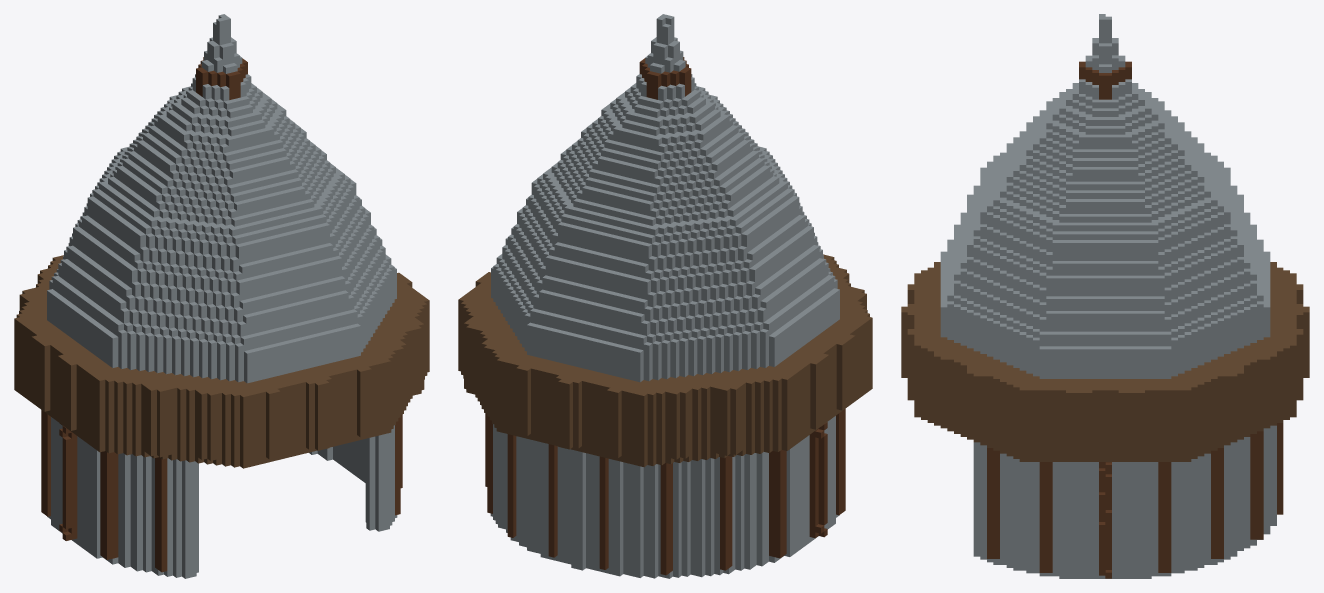
Rendered from helmet_conical.glb.
3 views of the same model, side by side, from view 1: azimuth 30°, elevation 25°; view 2: azimuth 150°, elevation 25°; view 3: azimuth 270°, elevation 25° (orthographic).
Visible parts, largest first — view 1: helmet_conical:compound; view 2: helmet_conical:compound; view 3: helmet_conical:compound.
Part boxes in pixels (x1,y1,x2,y2): helmet_conical:compound: (14,14,429,578); helmet_conical:compound: (458,14,872,578); helmet_conical:compound: (901,14,1309,578).
Size of the model in its own units: 0.24 by 0.328 by 0.248.
